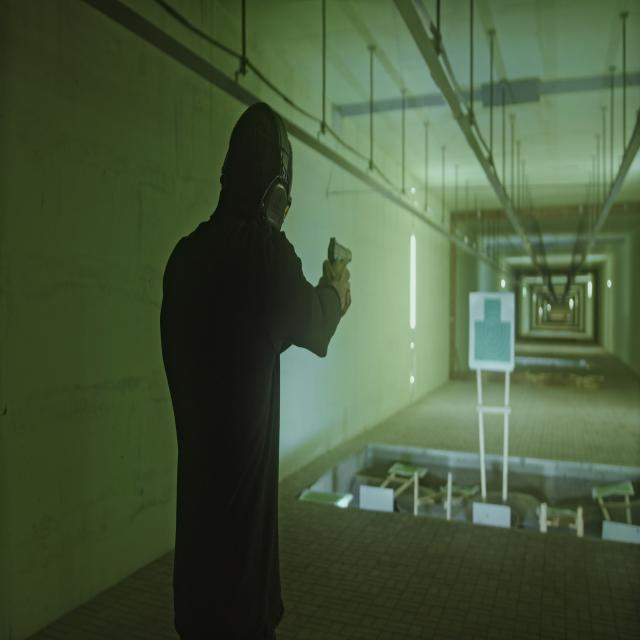Gun_Holder: (316, 232, 366, 310)
Person: (157, 97, 352, 638)
